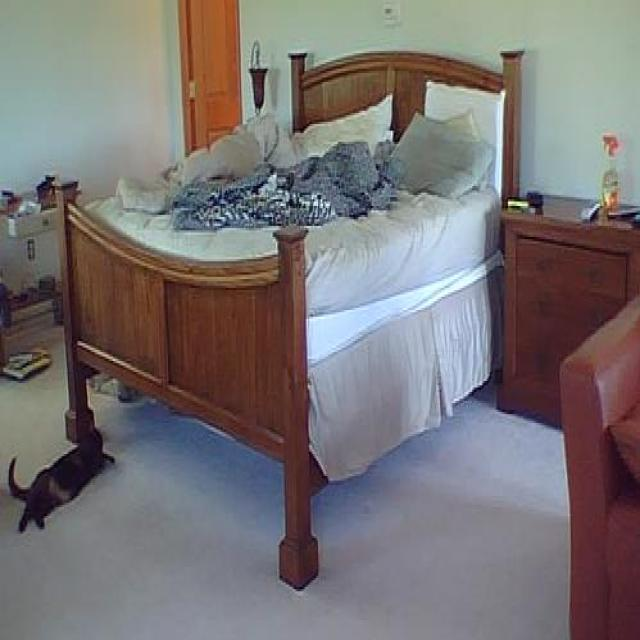bed: (54, 47, 523, 589)
